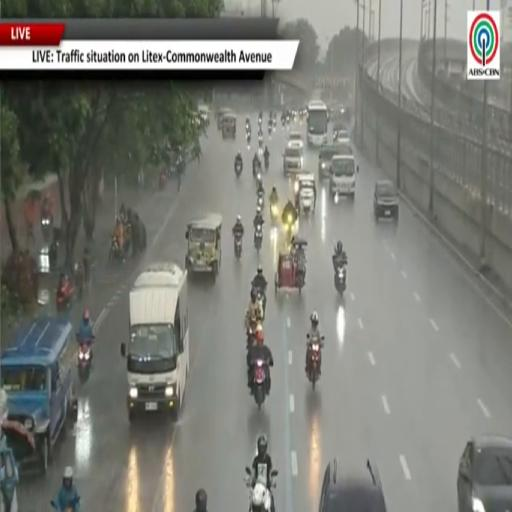bus: (122, 263, 189, 420), (307, 101, 328, 147)
car: (0, 317, 77, 473), (457, 436, 511, 511), (319, 459, 386, 511), (328, 155, 358, 198), (318, 144, 351, 180), (373, 180, 398, 220), (283, 141, 303, 175), (335, 130, 350, 147), (288, 132, 303, 148), (198, 104, 209, 125)
motorcycle: (245, 468, 278, 511), (307, 334, 324, 389), (252, 360, 267, 409), (77, 334, 92, 382), (56, 280, 74, 312), (50, 496, 80, 511), (108, 236, 125, 262), (74, 263, 84, 298), (334, 265, 346, 294), (41, 214, 53, 243), (48, 237, 58, 270), (256, 288, 266, 319), (246, 323, 255, 350), (254, 224, 263, 250), (296, 267, 305, 292), (234, 235, 242, 259), (270, 203, 279, 222), (158, 172, 167, 190), (234, 159, 242, 177), (253, 160, 260, 180), (257, 192, 264, 210), (264, 154, 269, 170), (268, 122, 273, 136), (246, 133, 251, 146), (259, 135, 263, 149), (286, 115, 291, 124), (246, 121, 250, 132), (258, 117, 262, 127), (273, 116, 276, 127), (282, 117, 285, 126)
tricycle: (275, 237, 306, 293)
